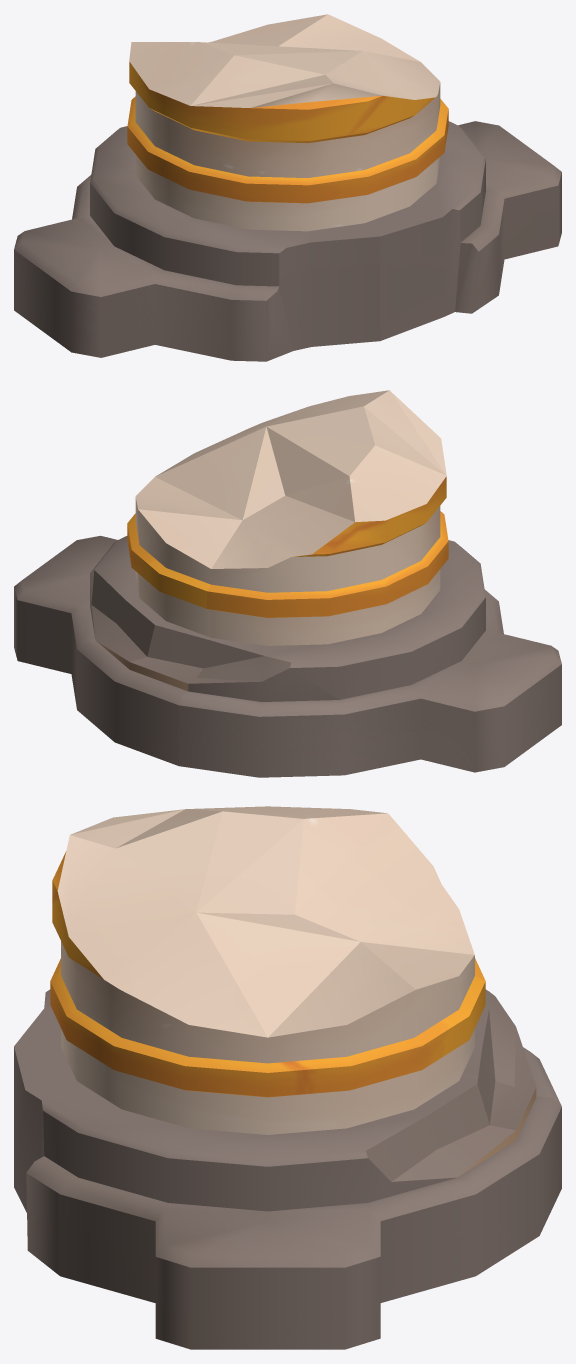
The model's file is PillarFragment3.fbx.
The picture shows the model from 3 angles, top to bottom: view 1: azimuth 30°, elevation 25°; view 2: azimuth 150°, elevation 25°; view 3: azimuth 270°, elevation 25°; orthographic projection. The views are drawn at different scales.
Parts seen in each view (by area): view 1: PillarFragment3; view 2: PillarFragment3; view 3: PillarFragment3.
Part boxes in pixels (left/top/right/bottom): PillarFragment3: left=14, top=14, right=561, bottom=361; PillarFragment3: left=14, top=390, right=561, bottom=777; PillarFragment3: left=14, top=806, right=561, bottom=1349.
Bounding box in the file's own units: 3.18 × 1.54 × 2.28.
